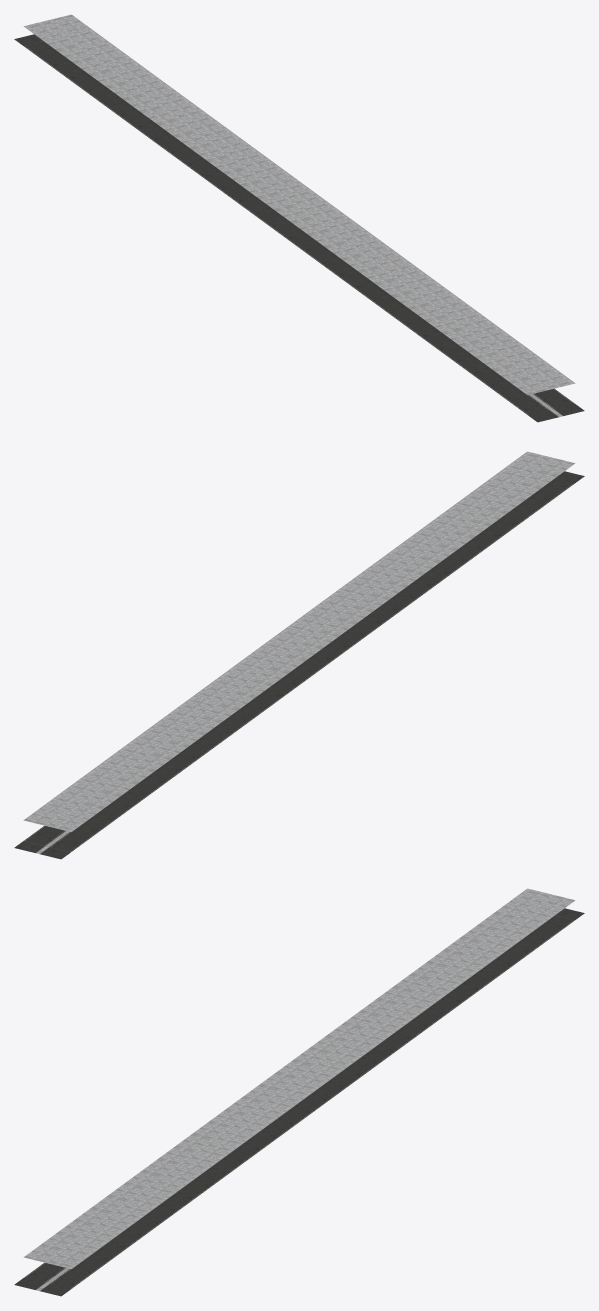
Rendered from Road.fbx.
3 renders of one model, top to bottom at view 1: azimuth 30°, elevation 25°; view 2: azimuth 150°, elevation 25°; view 3: azimuth 330°, elevation 25°, orthographic.
Visible parts, largest first — view 1: Rooad_Roof; view 2: Rooad_Roof; view 3: Rooad_Roof.
Part boxes in pixels (<box>): Rooad_Roof: <box>14,14,584,422</box>; Rooad_Roof: <box>14,451,584,859</box>; Rooad_Roof: <box>14,888,584,1296</box>.
Bounding box in the file's own units: 11.04 × 4.41 × 207.
